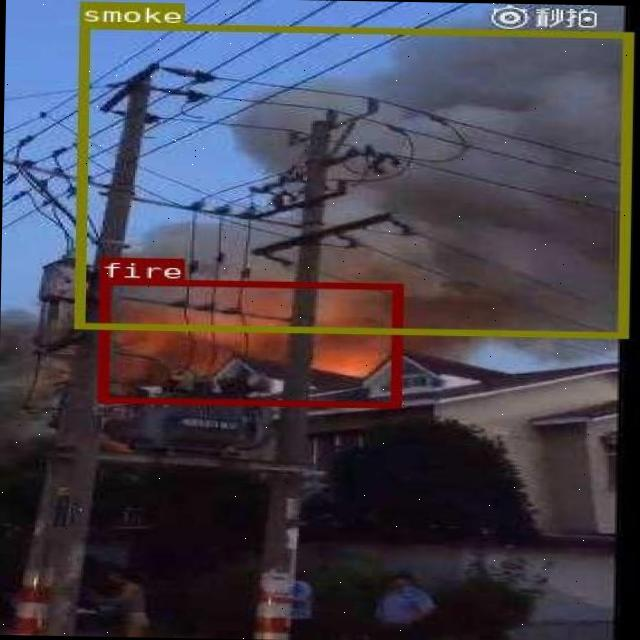fire: (97, 278, 400, 407)
smoke: (74, 21, 631, 338)
